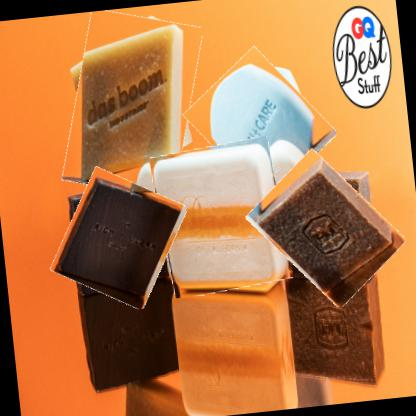soap: (55, 4, 209, 203), (151, 137, 292, 298), (255, 149, 396, 308), (190, 48, 330, 199), (50, 166, 186, 310)
